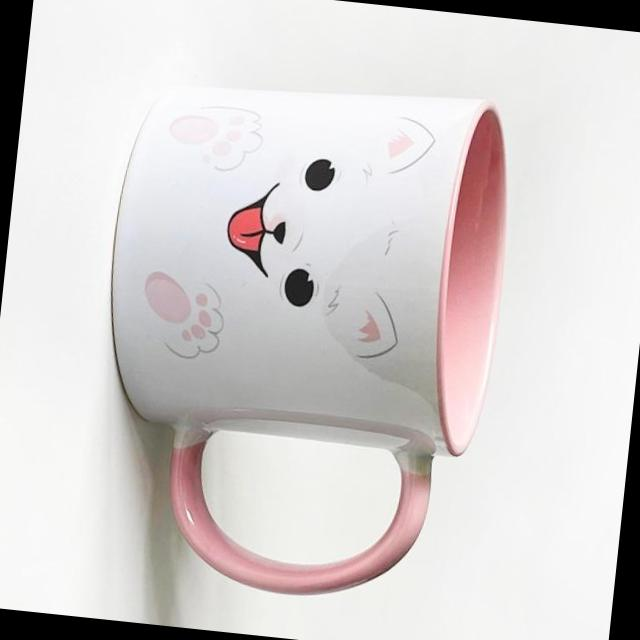Coffee Mug: (76, 61, 519, 612)
